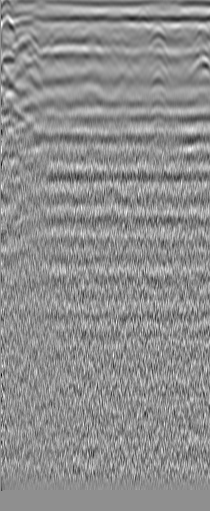오수: (12, 31, 44, 65)
우수: (170, 25, 190, 45)
